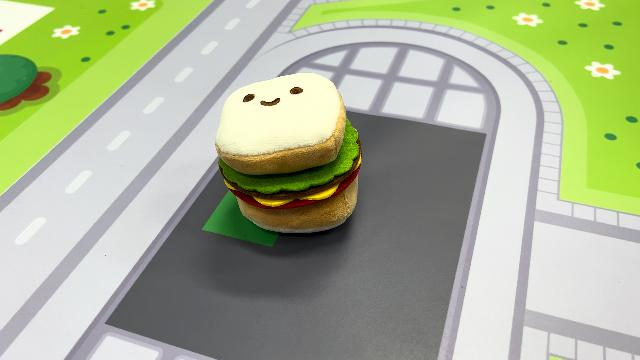sandwich: (213, 70, 364, 234)
